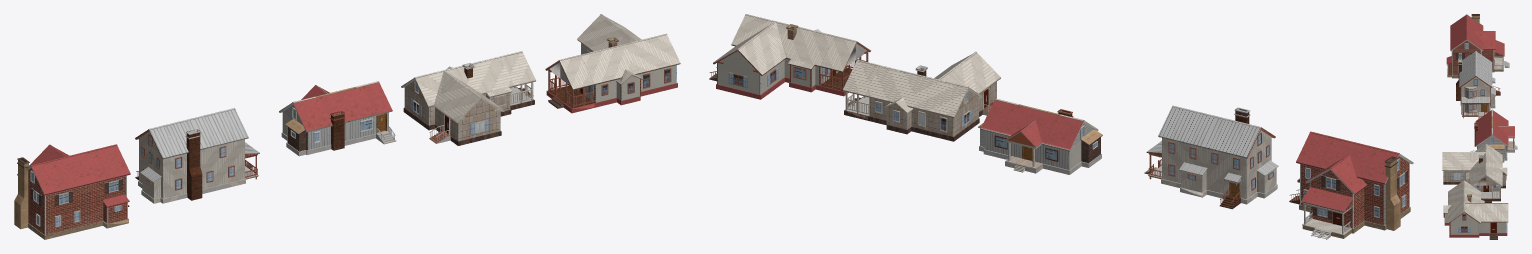
Rendered from houses.FBX.
3 renders of one model, left to right at view 1: azimuth 30°, elevation 25°; view 2: azimuth 150°, elevation 25°; view 3: azimuth 270°, elevation 25°, orthographic. The views are drawn at different scales.
Parts seen in each view (by area): view 1: House_A_3, House_A_2, House_A__4, House_A 5, House_A_1; view 2: House_A_3, House_A_2, House_A 5, House_A__4, House_A_1; view 3: House_A__4, House_A 5, House_A_3, House_A_2, House_A_1.
Part boxes in pixels (x1,y1,x2,y2): House_A_3: (14, 144, 130, 239); House_A_2: (135, 108, 259, 203); House_A__4: (545, 14, 680, 113); House_A 5: (401, 51, 535, 145); House_A_1: (279, 81, 396, 156); House_A_3: (1289, 131, 1413, 239); House_A_2: (1144, 105, 1278, 209); House_A 5: (843, 51, 1000, 141); House_A__4: (709, 14, 871, 99); House_A_1: (978, 98, 1102, 174); House_A__4: (1443, 180, 1508, 239); House_A 5: (1442, 143, 1507, 202); House_A_3: (1446, 14, 1509, 78); House_A_2: (1456, 51, 1500, 118); House_A_1: (1470, 109, 1517, 162).
Bounding box in the file's own units: 25494 × 2481 × 4315.
1 material, 1 textured.
